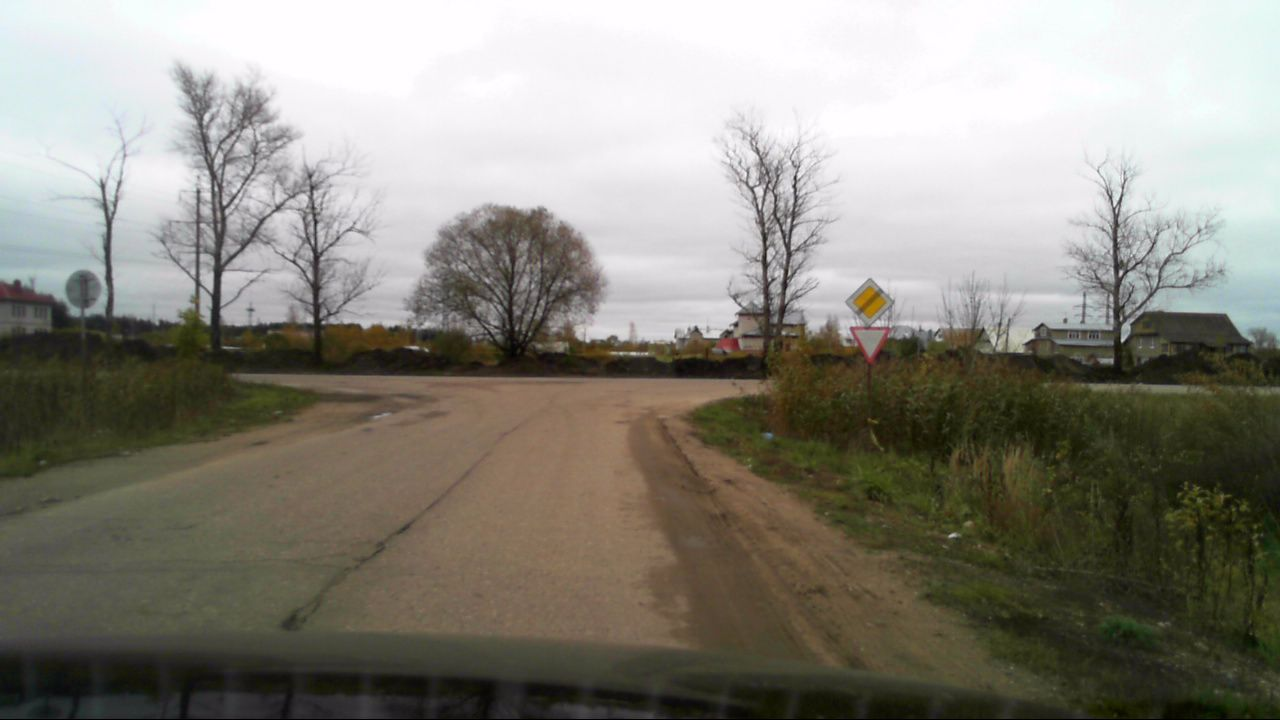main road: (845, 277, 894, 326)
